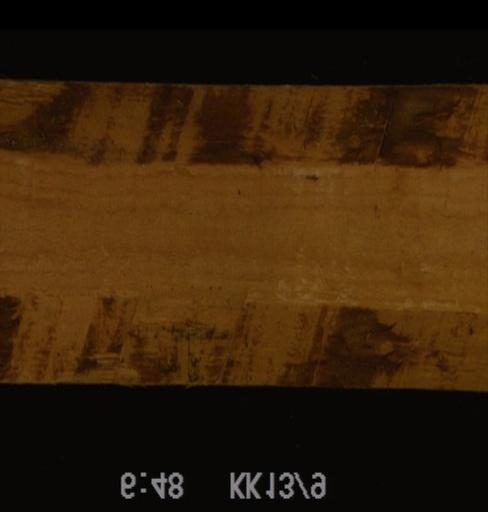wave: (0, 296, 485, 390), (0, 80, 485, 168)
